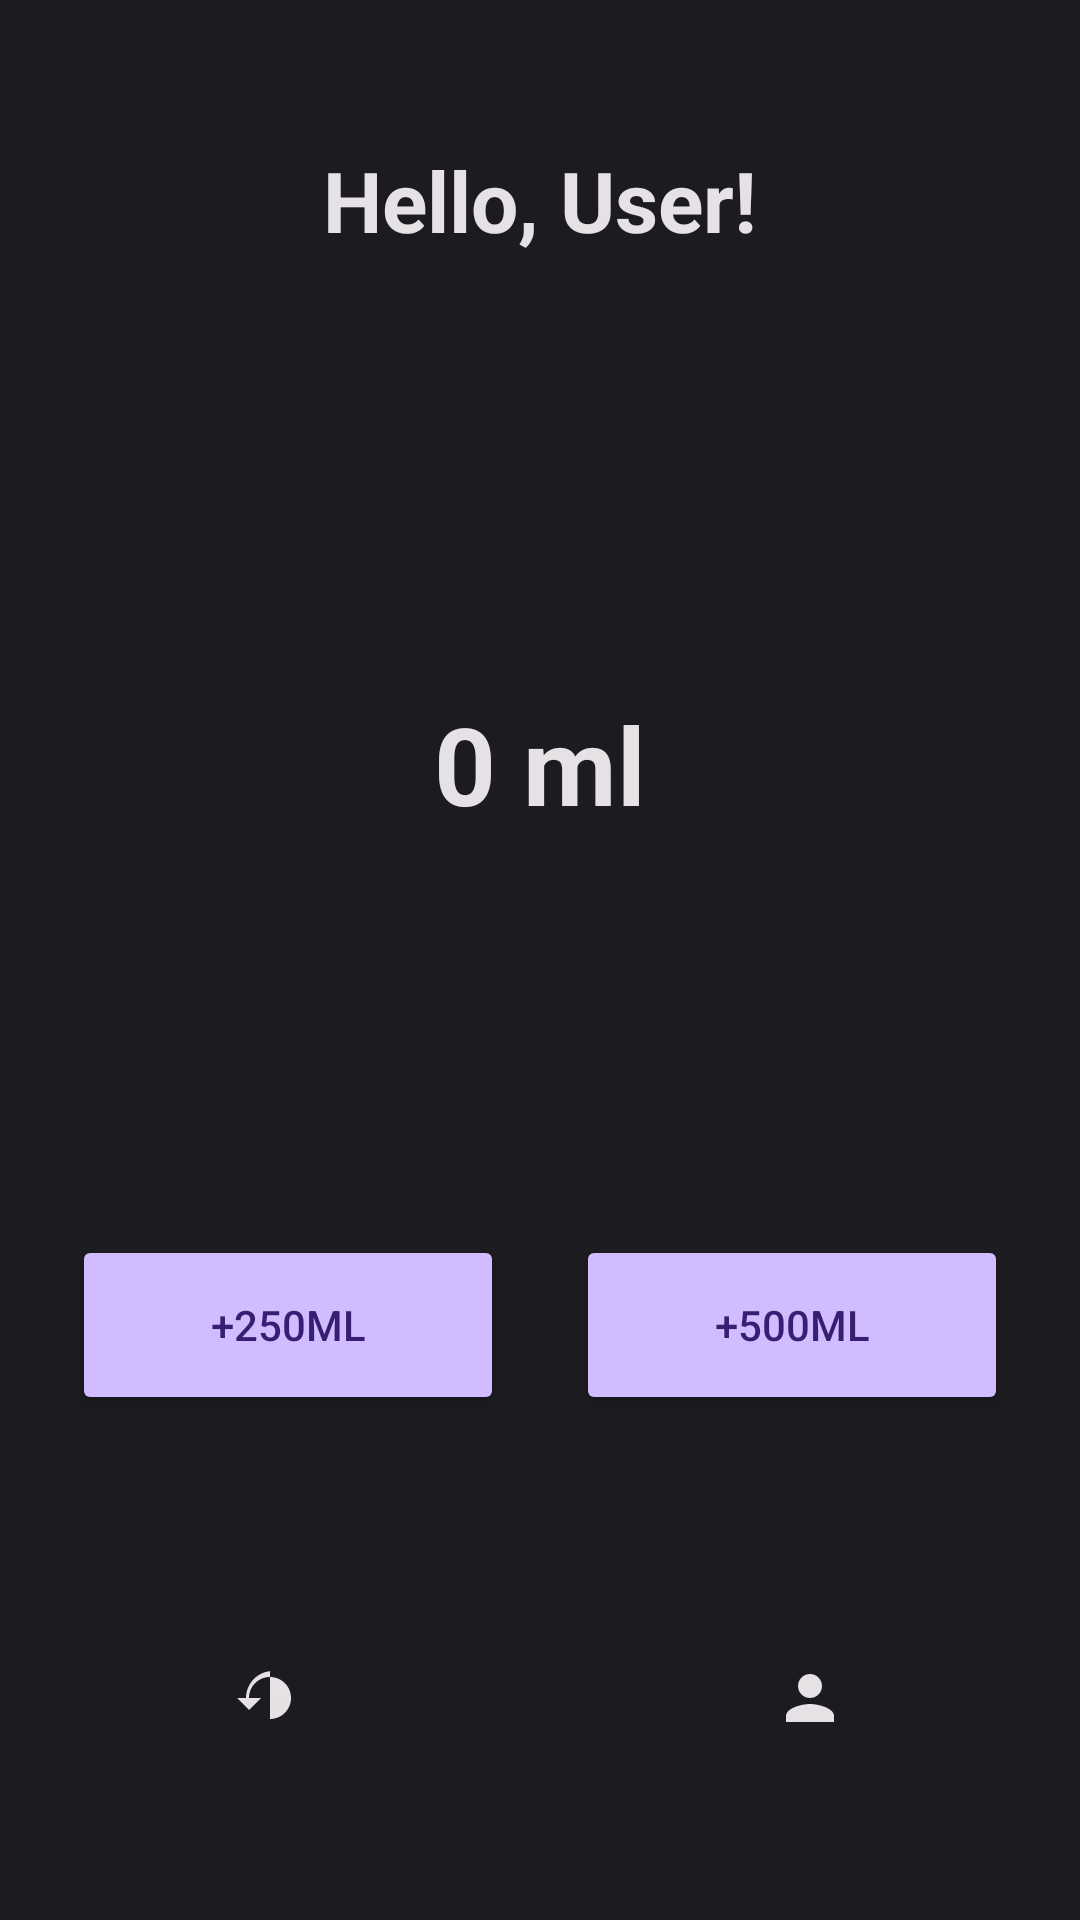

Screen size 1080px x 1920px. Icon name, then its center in pixels as point (x, y):
Profile: point (810, 1698)
